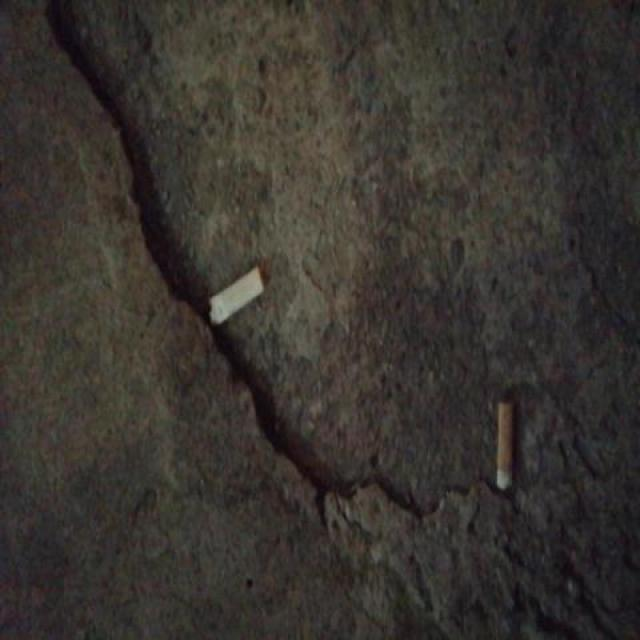non-organic waste: (205, 259, 267, 330), (492, 396, 520, 500)
